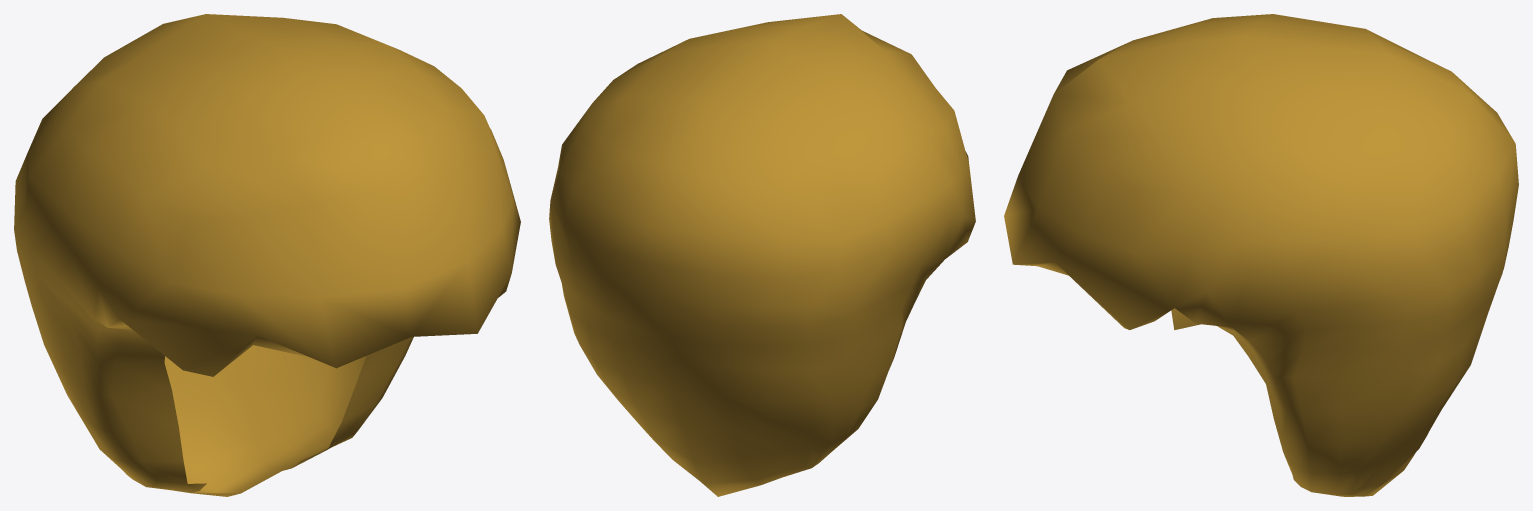
The model's file is cabello cazo chico nuevo 2.dae.
3 renders of one model, left to right at view 1: azimuth 30°, elevation 25°; view 2: azimuth 150°, elevation 25°; view 3: azimuth 270°, elevation 25°, orthographic. The views are drawn at different scales.
Visible parts, largest first — view 1: pasted__pasted__pasted__pasted__pasted__polySurface2; view 2: pasted__pasted__pasted__pasted__pasted__polySurface2; view 3: pasted__pasted__pasted__pasted__pasted__polySurface2.
Part boxes in pixels (x1,y1,x2,y2): pasted__pasted__pasted__pasted__pasted__polySurface2: [14, 14, 520, 496]; pasted__pasted__pasted__pasted__pasted__polySurface2: [549, 14, 975, 496]; pasted__pasted__pasted__pasted__pasted__polySurface2: [1004, 14, 1518, 496].
Bounding box in the file's own units: 1.04 × 1.16 × 1.18.
